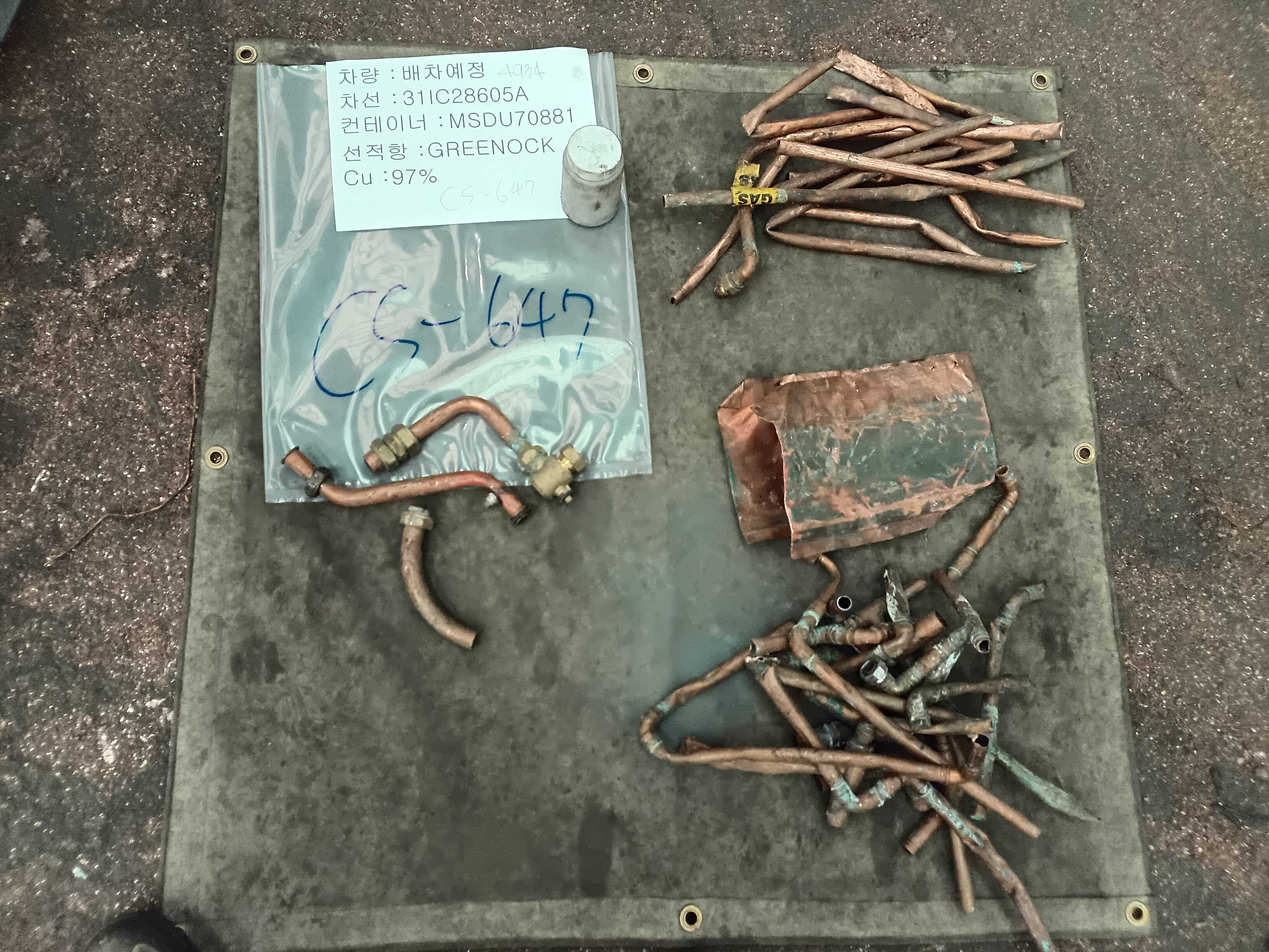Brass_Attach_70: (359, 394, 591, 503), (281, 447, 531, 527), (399, 504, 480, 651), (857, 652, 893, 689)
Clean_Copper_Tubes_98: (778, 140, 1087, 212)
Copper_Plates_93: (714, 348, 989, 561)
